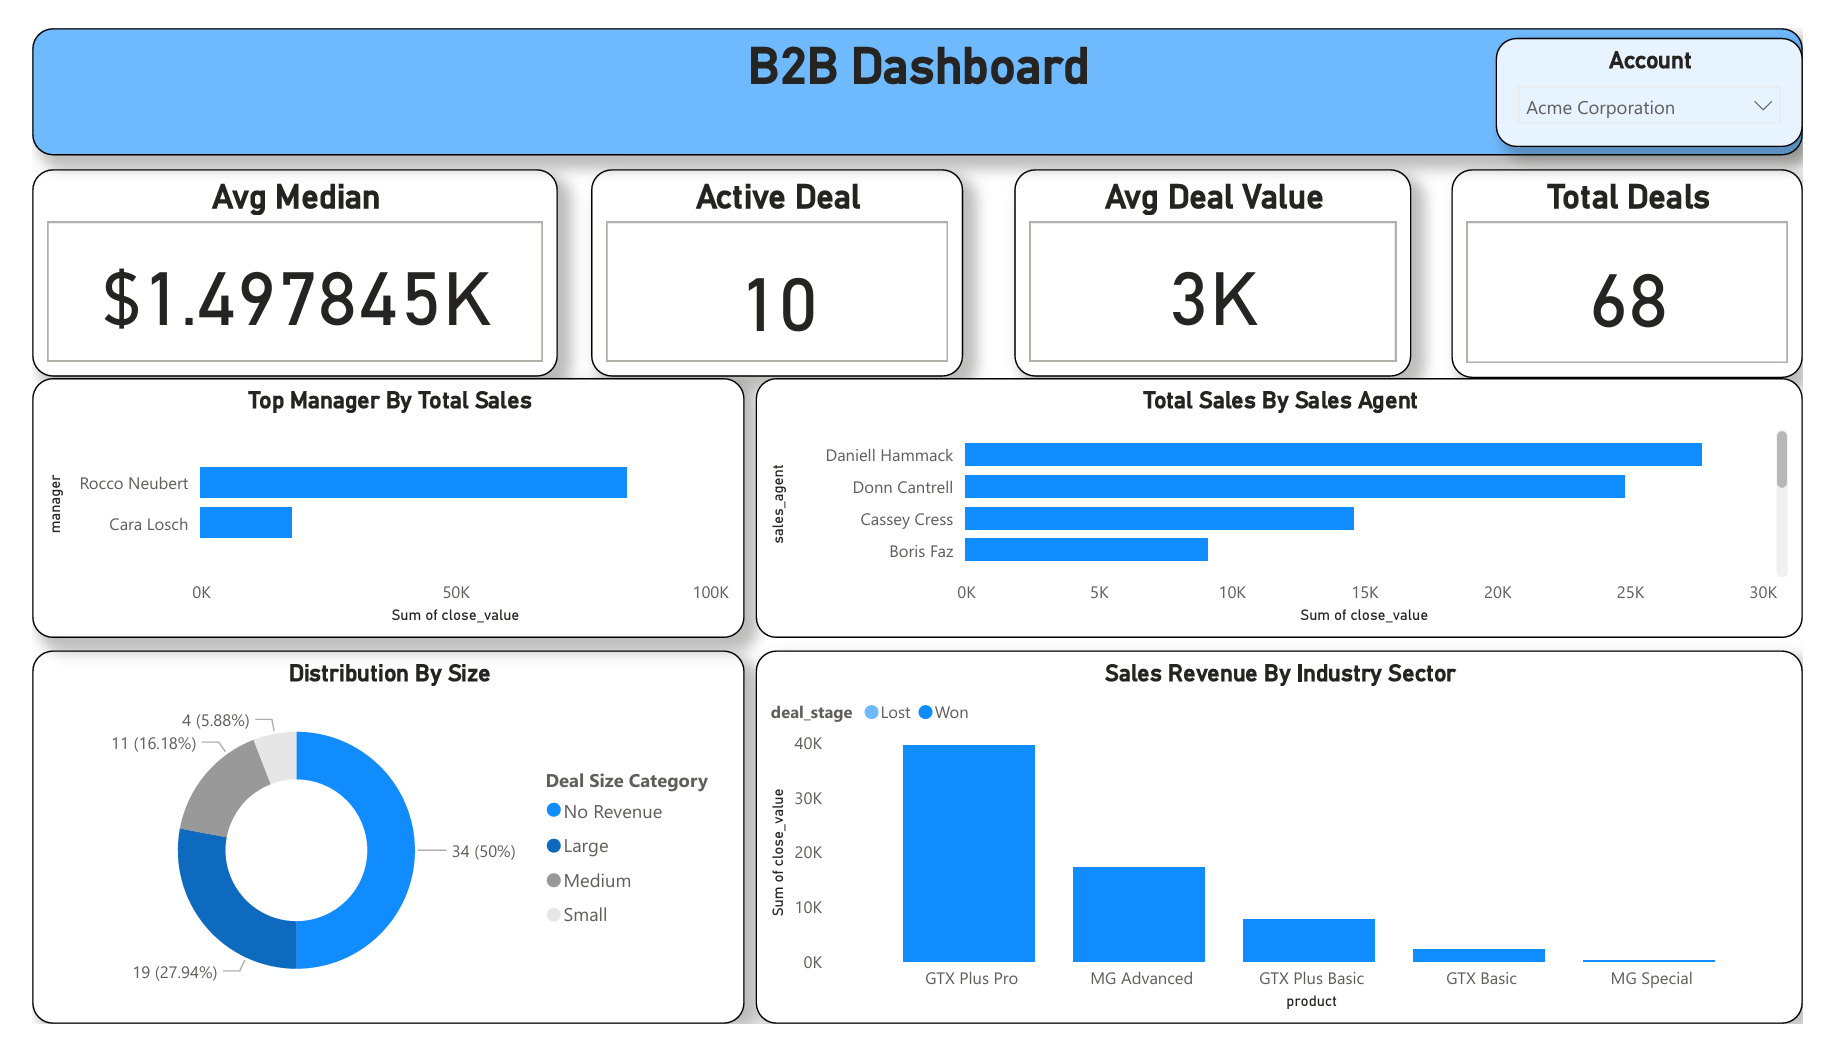

The page's visual inventory and layout, read from the dashboard file:
{"tool":"powerbi","page":{"name":"Page 1","canvas":[1280,720],"ordinal":0},"visuals":[{"type":"cardVisual","title":"Avg Median ","fields":{"Data":["accounts.Median Revenue"]},"box":[7.8,116.7,368.6,126.4],"z":0},{"type":"cardVisual","title":"Active Deal","fields":{"Data":["Count(sales_pipeline.opportunity_id)"]},"box":[406.6,117.7,269.4,125.5],"z":1000},{"type":"cardVisual","title":"Avg Deal Value","fields":{"Data":["Avg(sales_pipeline.close_value)"]},"box":[709.1,117.7,286.9,125.5],"z":2000},{"type":"cardVisual","title":"Total Deals ","fields":{"Data":["Count(sales_pipeline.opportunity_id)"]},"box":[1018.4,117.7,253.9,125.5],"z":3000},{"type":"donutChart","title":"Distribution By Size","fields":{"Category":["sales_pipeline.Deal Size Category"],"Y":["CountNonNull(sales_pipeline.opportunity_id)"]},"box":[7.8,450.3,499,269.4],"z":4000},{"type":"barChart","title":"Top Manager By Total Sales","fields":{"Category":["sales_teams.manager"],"Y":["Sum(sales_pipeline.close_value)"]},"box":[7.8,252.9,499,187.7],"z":5000},{"type":"columnChart","title":"Sales Revenue By Industry  Sector","fields":{"Y":["Sum(sales_pipeline.close_value)"],"Category":["products.product"],"Series":["sales_pipeline.deal_stage"]},"box":[515.5,450.3,756.7,269.4],"z":6000},{"type":"barChart","title":"Total Sales By Sales Agent","fields":{"Category":["sales_teams.sales_agent"],"Y":["Sum(sales_pipeline.close_value)"]},"box":[515.5,252.9,756.7,187.7],"z":7000},{"type":"textbox","title":"B2B  Dashboard","box":[0,6.8,1280,93.4],"z":8000},{"type":"slicer","title":"Account","fields":{"Values":["accounts.account"]},"box":[1050.5,13.6,221.8,78.8],"z":9000}]}

Visuals, with their boxes in screenshot pixels (x1, y1, x2, y2), scaled from the page's 1280x720 canvas onto the 1834x1056 screenshot:
"Avg Median " cardVisual: (x1=11, y1=171, x2=539, y2=357)
"Active Deal" cardVisual: (x1=583, y1=173, x2=969, y2=357)
"Avg Deal Value" cardVisual: (x1=1016, y1=173, x2=1427, y2=357)
"Total Deals " cardVisual: (x1=1459, y1=173, x2=1823, y2=357)
"Distribution By Size" donutChart: (x1=11, y1=660, x2=726, y2=1055)
"Top Manager By Total Sales" barChart: (x1=11, y1=371, x2=726, y2=646)
"Sales Revenue By Industry  Sector" columnChart: (x1=739, y1=660, x2=1823, y2=1055)
"Total Sales By Sales Agent" barChart: (x1=739, y1=371, x2=1823, y2=646)
"B2B  Dashboard" textbox: (x1=0, y1=10, x2=1833, y2=147)
"Account" slicer: (x1=1505, y1=20, x2=1823, y2=136)
